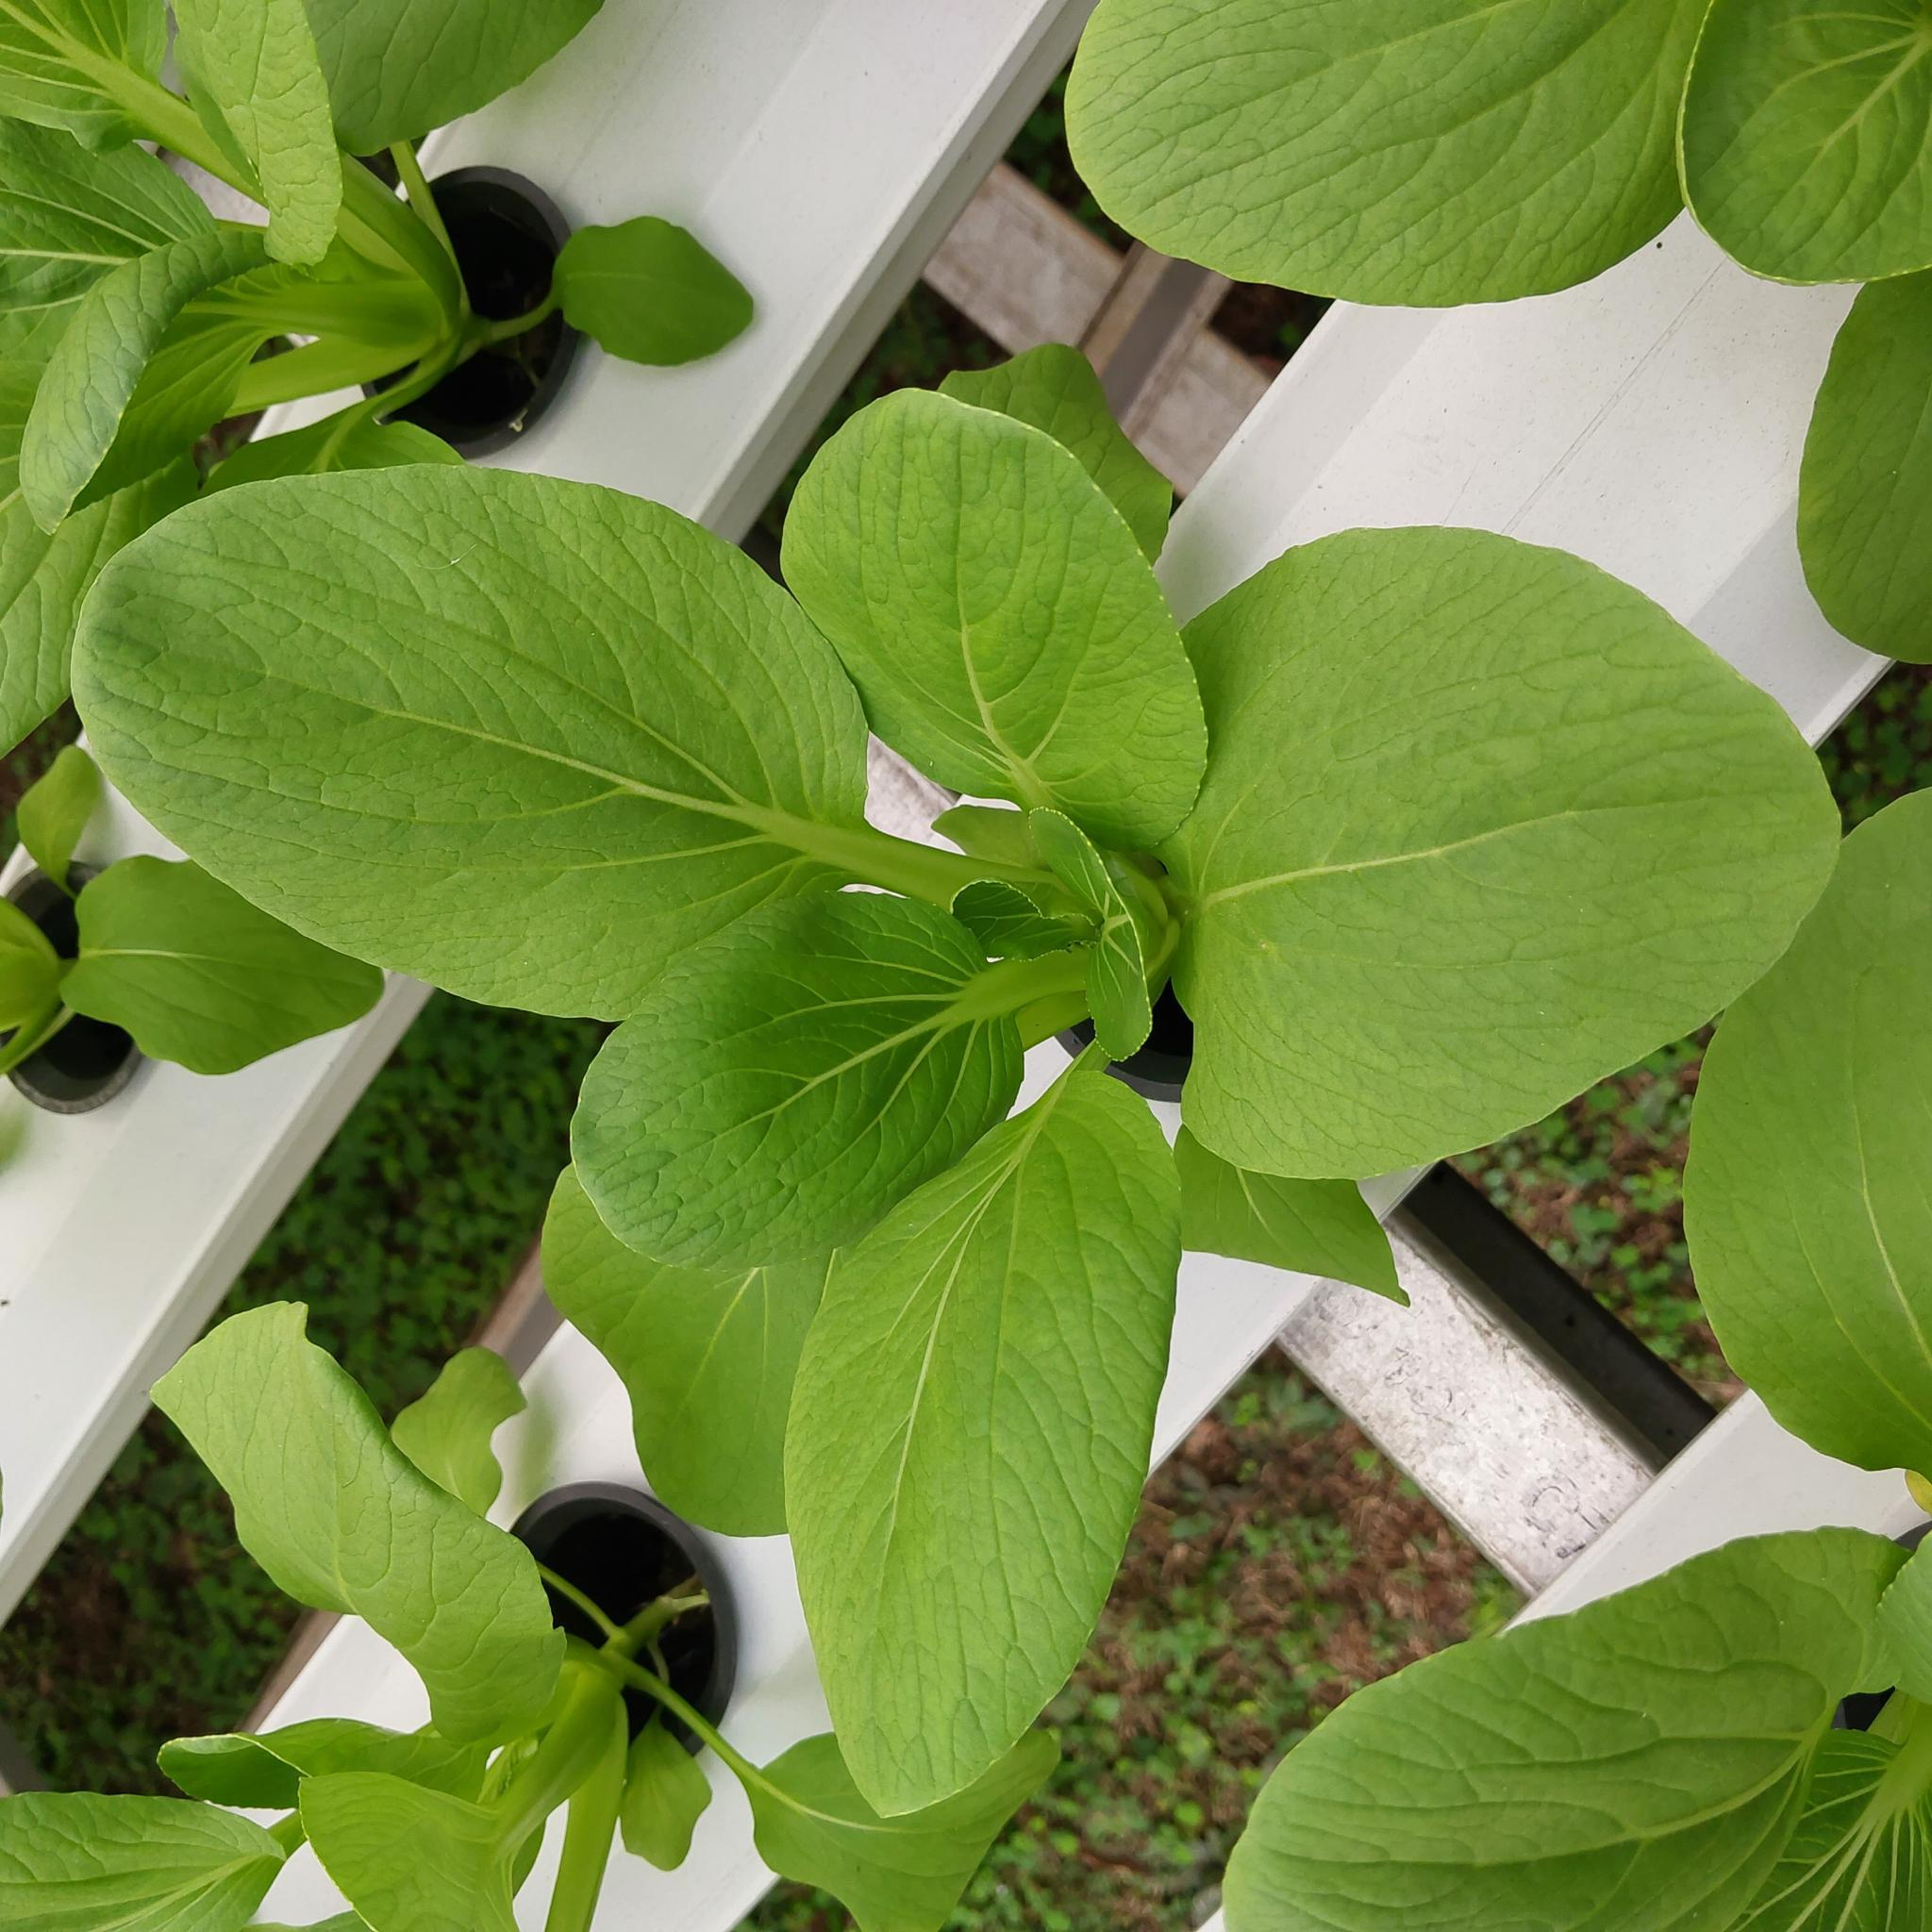Healthy-Pechay: (196, 0, 1913, 1844), (67, 460, 998, 1008), (632, 1047, 1154, 1828), (1145, 522, 1849, 1049), (1007, 7, 1932, 320), (145, 1295, 566, 1762), (568, 750, 1000, 1178), (839, 387, 1168, 855), (540, 1145, 830, 1550), (301, 1026, 579, 1327), (12, 223, 267, 531), (50, 853, 389, 1054), (4, 469, 203, 798), (1799, 246, 1928, 669), (931, 345, 1132, 587), (294, 0, 607, 154), (173, 2, 345, 271), (0, 120, 225, 306), (2, 1787, 292, 1923), (1203, 816, 1619, 906), (548, 218, 754, 364), (0, 4, 182, 156), (186, 405, 469, 495), (387, 1346, 527, 1522), (386, 136, 465, 301), (14, 750, 103, 897), (157, 1732, 315, 1810)
